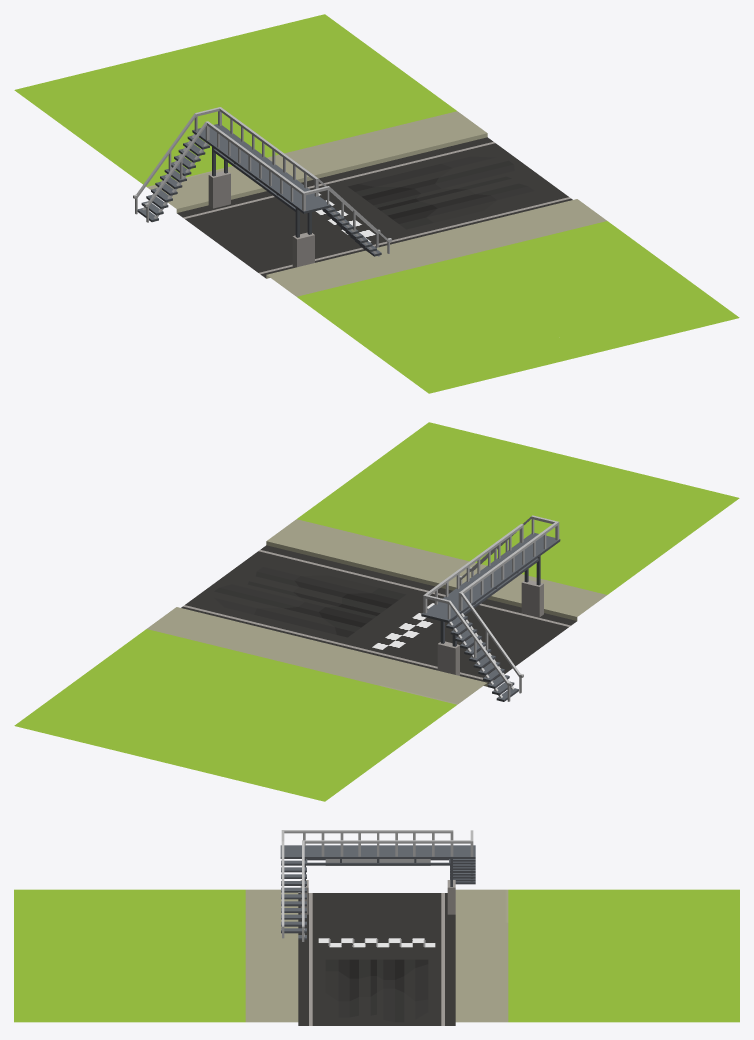
The model's file is roads.fbx.
The picture shows the model from 3 angles, top to bottom: view 1: azimuth 30°, elevation 25°; view 2: azimuth 150°, elevation 25°; view 3: azimuth 270°, elevation 25°; orthographic projection. The views are drawn at different scales.
Visible parts, largest first — view 1: SR_Env_Concrete_Track_Straight_Skids_End, SR_Env_Concrete_Track_WalkBridge, SR_Env_Concrete_Track_StartingLine; view 2: SR_Env_Concrete_Track_Straight_Skids_End, SR_Env_Concrete_Track_WalkBridge, SR_Env_Concrete_Track_StartingLine; view 3: SR_Env_Concrete_Track_Straight_Skids_End, SR_Env_Concrete_Track_WalkBridge, SR_Env_Concrete_Track_StartingLine.
Part boxes in pixels (left/top/right/bottom): SR_Env_Concrete_Track_Straight_Skids_End: left=170, top=14, right=739, bottom=355; SR_Env_Concrete_Track_WalkBridge: left=14, top=71, right=506, bottom=393; SR_Env_Concrete_Track_StartingLine: left=92, top=52, right=583, bottom=374; SR_Env_Concrete_Track_Straight_Skids_End: left=14, top=422, right=583, bottom=763; SR_Env_Concrete_Track_WalkBridge: left=247, top=479, right=739, bottom=801; SR_Env_Concrete_Track_StartingLine: left=170, top=460, right=661, bottom=782; SR_Env_Concrete_Track_Straight_Skids_End: left=14, top=956, right=739, bottom=1025; SR_Env_Concrete_Track_WalkBridge: left=14, top=830, right=739, bottom=941; SR_Env_Concrete_Track_StartingLine: left=14, top=922, right=739, bottom=959.
Size of the model in its own units: 44.32 by 10.57 by 92.47.
2 materials, 2 textured.
